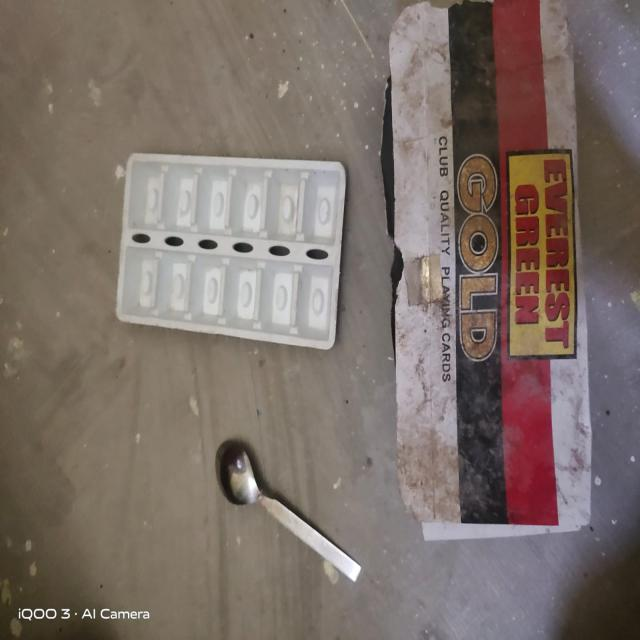metal: (196, 429, 375, 609)
paper: (373, 4, 595, 564)
plastic: (104, 144, 351, 359)
